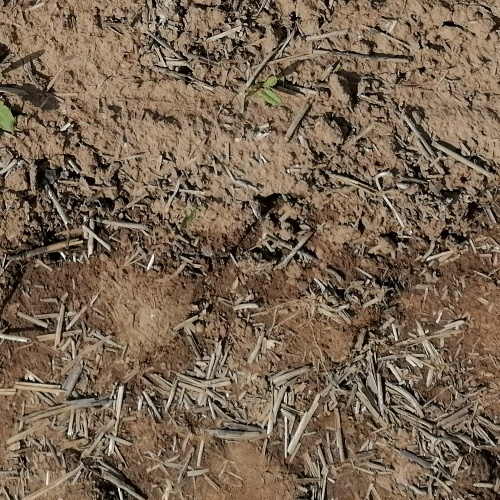beet: (255, 76, 285, 105), (0, 101, 16, 135)
